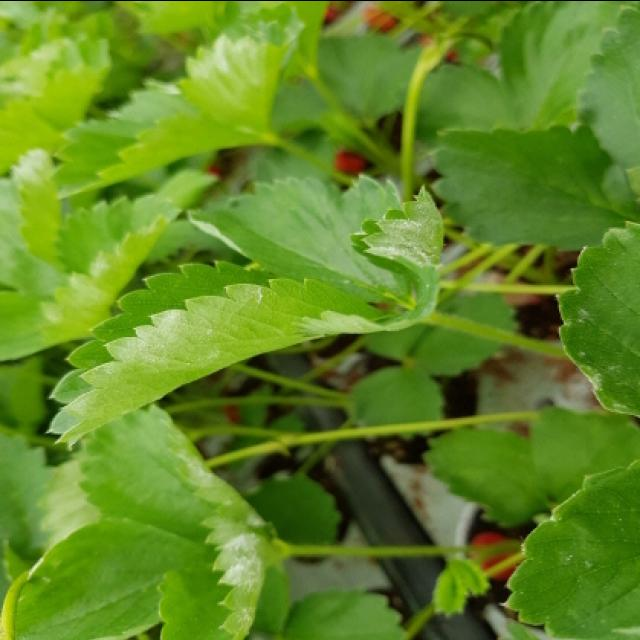Powdery Mildew Leaf: (43, 259, 406, 451), (296, 180, 445, 339), (155, 464, 276, 640), (74, 402, 217, 541), (174, 2, 307, 137), (556, 220, 638, 419)
